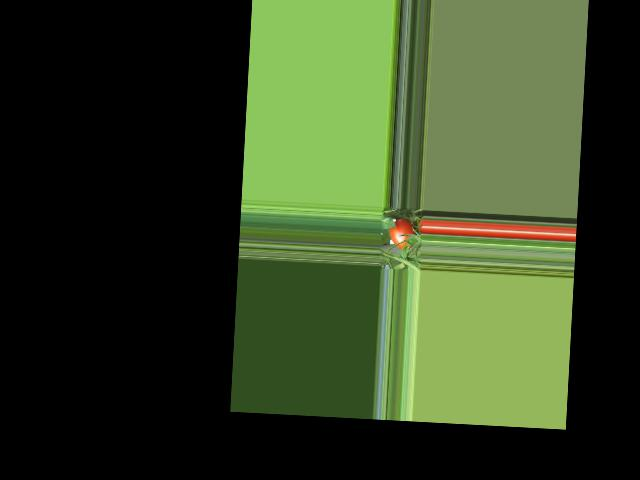tomato: (388, 217, 415, 249)
